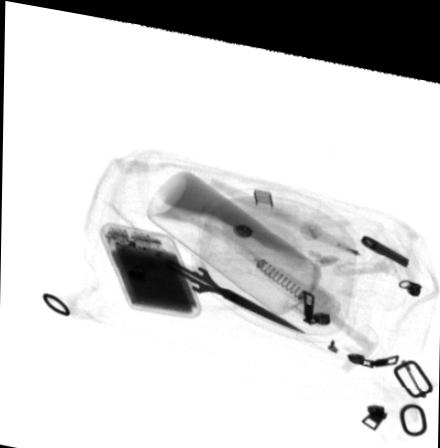Powerbank: (93, 219, 204, 312)
Scissors: (123, 224, 311, 326)
